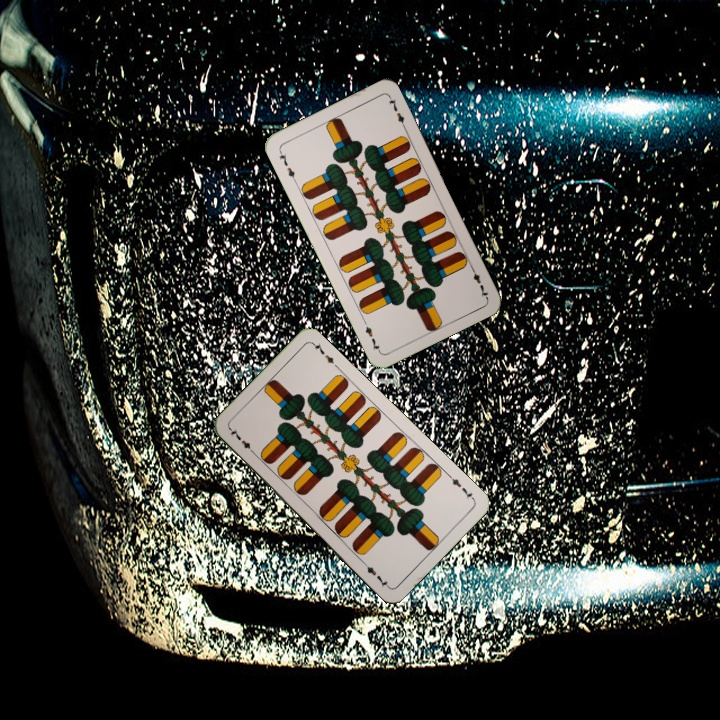E7: (226, 425, 258, 457), (444, 471, 477, 502), (466, 262, 491, 300), (275, 147, 299, 185)
